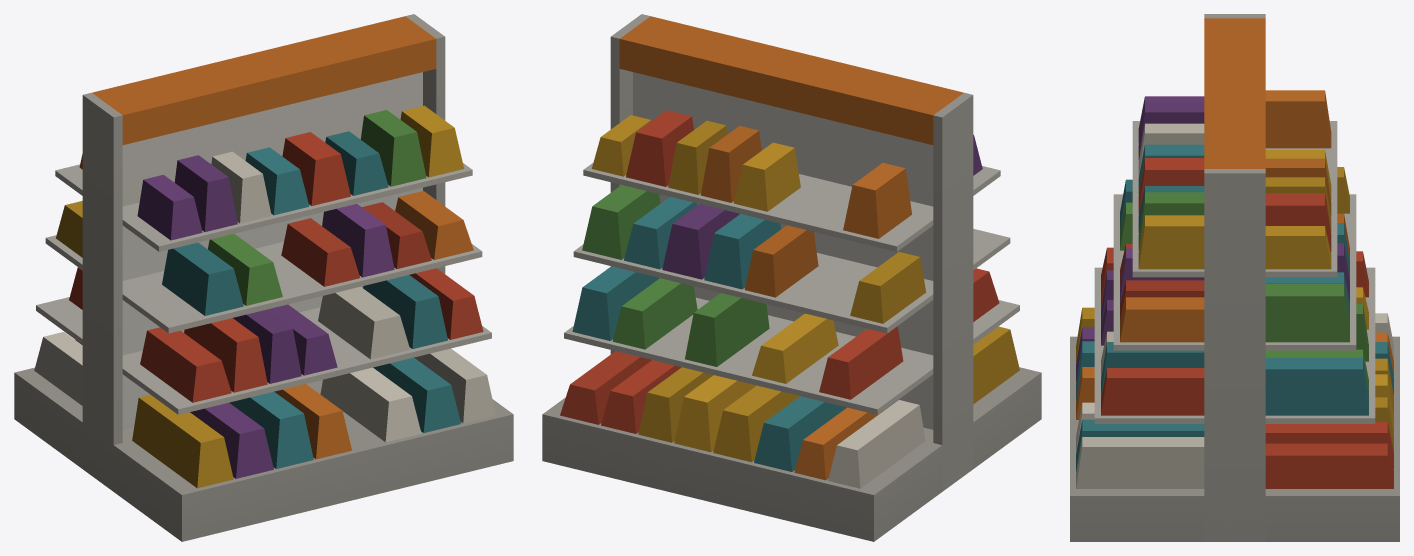
Rendered from shelf.gondola_snack.bags.glb.
3 renders of one model, left to right at view 1: azimuth 30°, elevation 25°; view 2: azimuth 150°, elevation 25°; view 3: azimuth 270°, elevation 25°, orthographic.
Parts seen in each view (by area): view 1: shelf_gondola_snack_bags; view 2: shelf_gondola_snack_bags; view 3: shelf_gondola_snack_bags.
Boxes of the visible parts, bbox=[...] form: shelf_gondola_snack_bags: bbox=[14, 14, 513, 541]; shelf_gondola_snack_bags: bbox=[542, 14, 1041, 541]; shelf_gondola_snack_bags: bbox=[1070, 14, 1399, 541].
Size of what is drawn, in the model's own units: 1.85 by 2 by 1.62.
